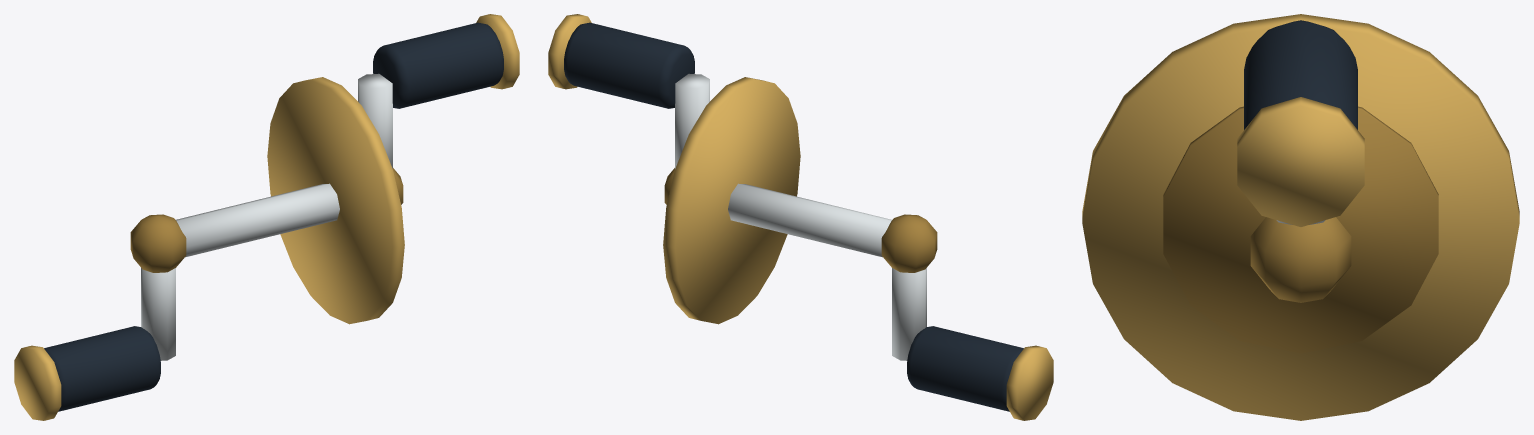
File: knowitowl_crank.glb
3 views of the same model, side by side, from view 1: azimuth 30°, elevation 25°; view 2: azimuth 150°, elevation 25°; view 3: azimuth 270°, elevation 25° (orthographic). The views are drawn at different scales.
Visible parts, largest first — view 1: KnowItOwlCrank; view 2: KnowItOwlCrank; view 3: KnowItOwlCrank.
Boxes of the visible parts, box(x1,y1,x2,y2) form: KnowItOwlCrank: box(14, 14, 519, 420); KnowItOwlCrank: box(548, 14, 1053, 420); KnowItOwlCrank: box(1082, 14, 1519, 420).
Bounding box in the file's own units: 1.34 × 0.79 × 0.62.
